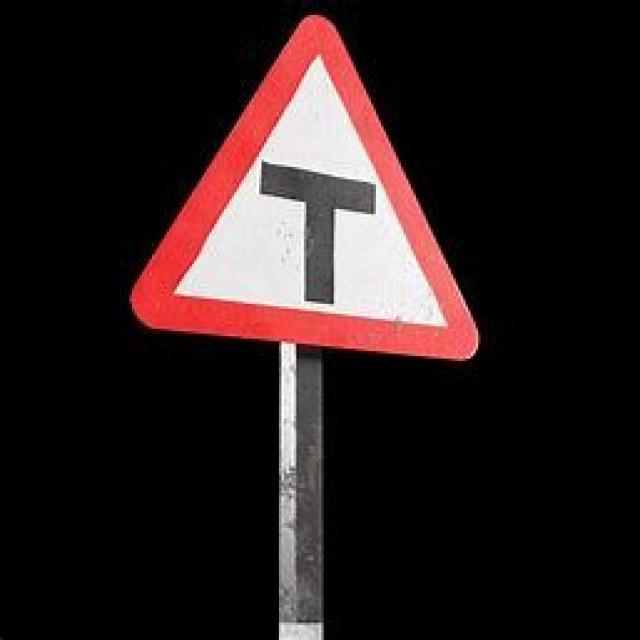t intersection: (129, 20, 479, 370)
